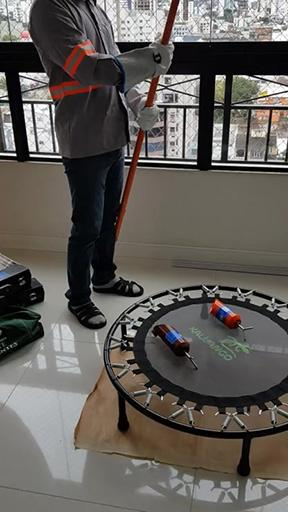Detector_Tensao_Contato: (154, 323, 199, 367), (208, 300, 252, 339)
Vara_Manobra: (115, 1, 178, 238)
